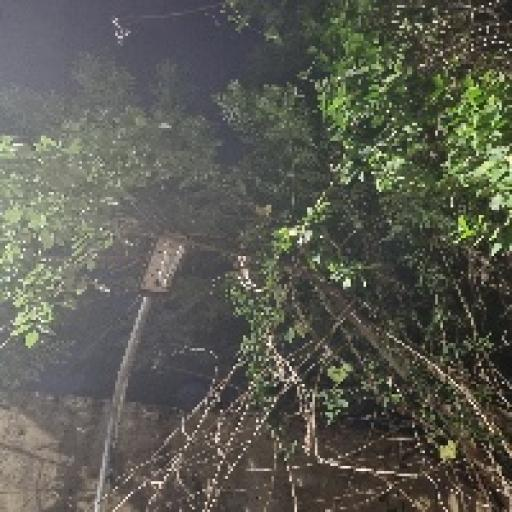Not Working: (122, 218, 201, 320)
